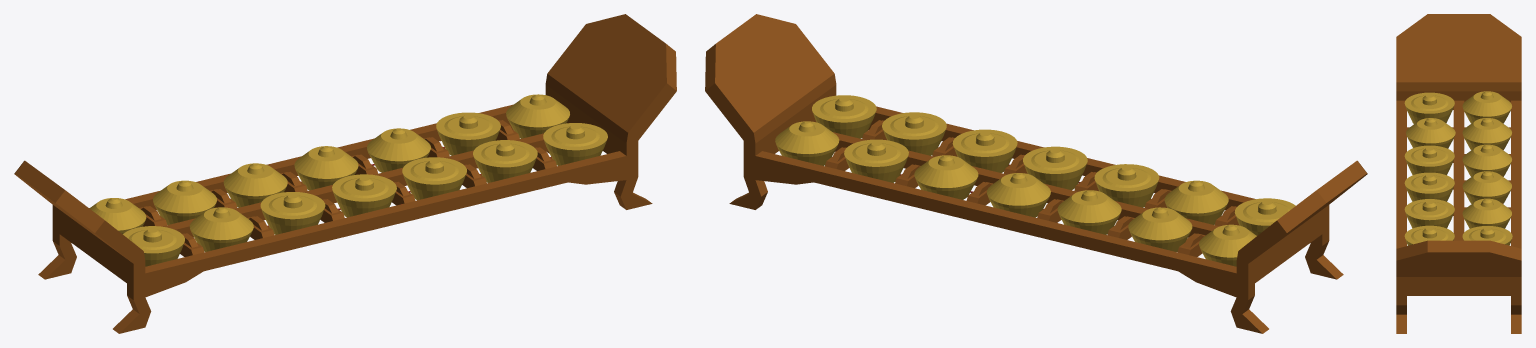
Rendered from bonang_pelog_glb.glb.
3 views of the same model, side by side, from view 1: azimuth 30°, elevation 25°; view 2: azimuth 150°, elevation 25°; view 3: azimuth 270°, elevation 25° (orthographic). The views are drawn at different scales.
Visible parts, largest first — view 1: Cube.002; view 2: Cube.002; view 3: Cube.002.
Part boxes in pixels (x1,y1,x2,y2): Cube.002: [14, 14, 676, 333]; Cube.002: [705, 14, 1367, 333]; Cube.002: [1396, 14, 1521, 333].
Bounding box in the file's own units: 10.62 × 2.24 × 2.4.
Materials: 1 (1 with a texture image).
